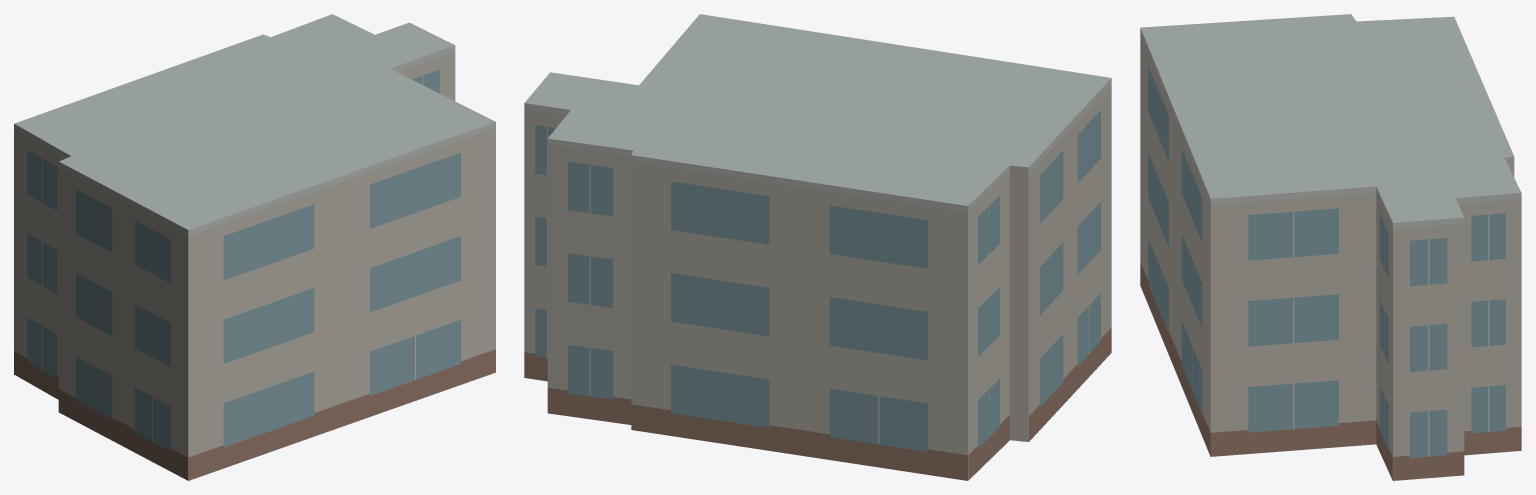
File: survey-upis-32787788.glb
3 views of the same model, side by side, from view 1: azimuth 30°, elevation 25°; view 2: azimuth 150°, elevation 25°; view 3: azimuth 270°, elevation 25° (orthographic). The views are drawn at different scales.
Parts seen in each view (by area): view 1: survey-upis-32787788.tmp; view 2: survey-upis-32787788.tmp; view 3: survey-upis-32787788.tmp.
Boxes of the visible parts, left/top/right/bottom form: survey-upis-32787788.tmp: left=14, top=14, right=495, bottom=480; survey-upis-32787788.tmp: left=524, top=14, right=1111, bottom=480; survey-upis-32787788.tmp: left=1140, top=14, right=1521, bottom=480.
Bounding box in the file's own units: 17.74 × 10.2 × 13.68.
